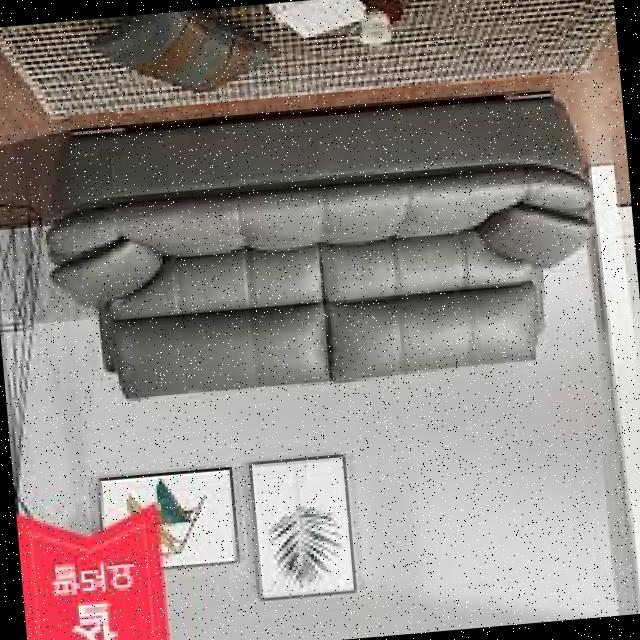Sofa: (30, 76, 626, 426)
